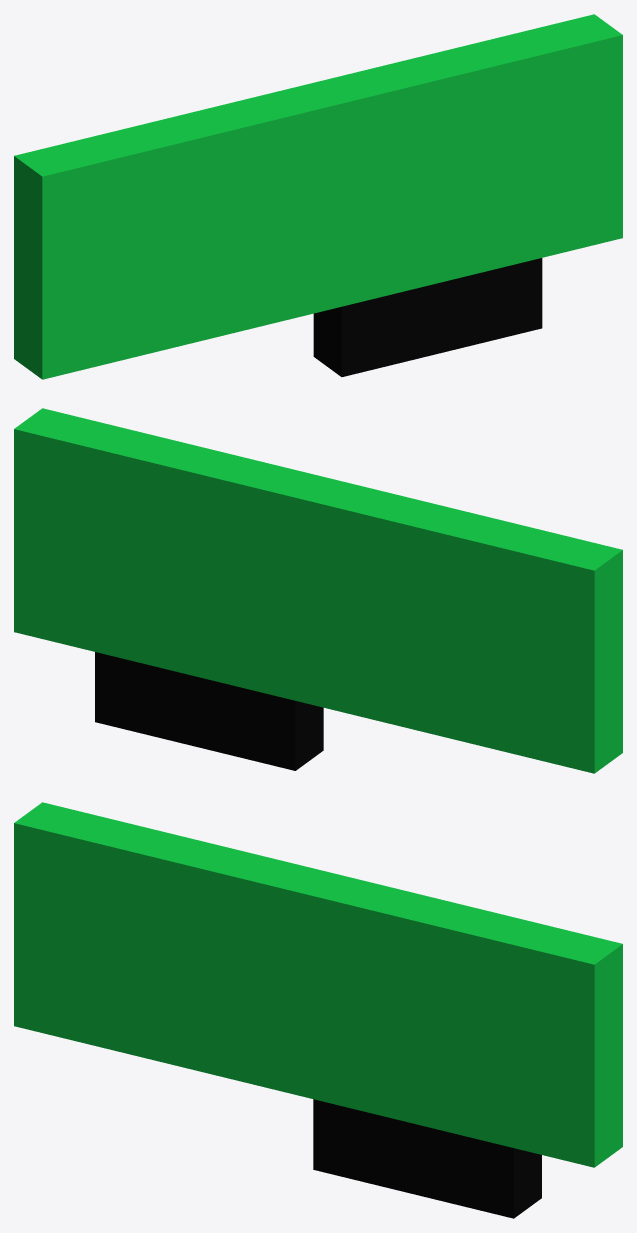
The picture shows the model from 3 angles, top to bottom: view 1: azimuth 30°, elevation 25°; view 2: azimuth 150°, elevation 25°; view 3: azimuth 330°, elevation 25°; orthographic projection.
Parts seen in each view (by area): view 1: nodes_0, nodes_1; view 2: nodes_0, nodes_1; view 3: nodes_0, nodes_1.
Boxes of the visible parts, <box> form: nodes_0: <box>14,14,622,379</box>; nodes_1: <box>313,258,542,376</box>; nodes_0: <box>14,408,622,773</box>; nodes_1: <box>95,652,323,770</box>; nodes_0: <box>14,802,622,1167</box>; nodes_1: <box>313,1099,541,1218</box>.
Size of the model in its own units: 0.2316 by 0.1043 by 0.0197.
Materials: 2 (2 with a texture image).
